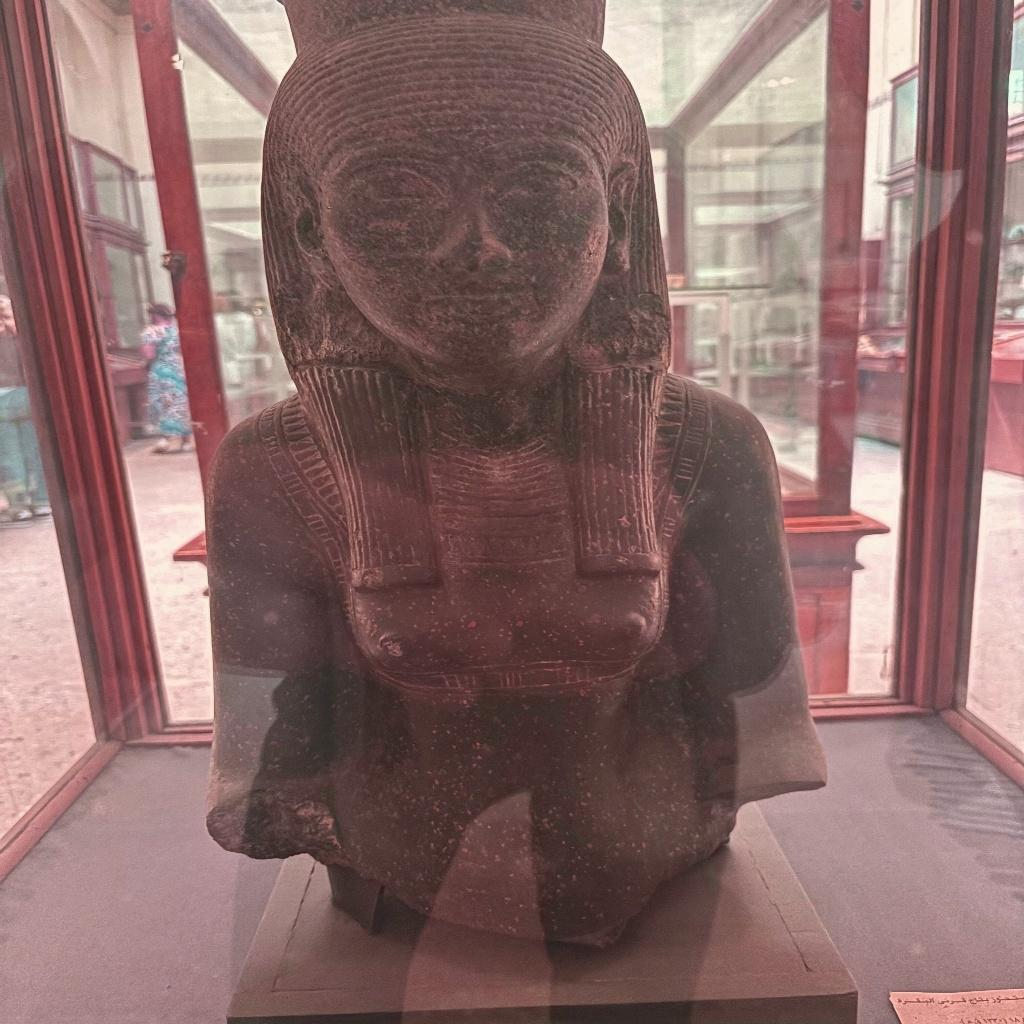Bust of Isis: (198, 4, 831, 951)
